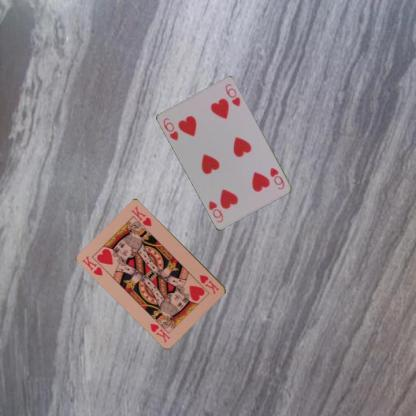6h: (160, 115, 180, 142), (268, 164, 286, 190)
Kh: (197, 271, 221, 296), (80, 253, 105, 277)
